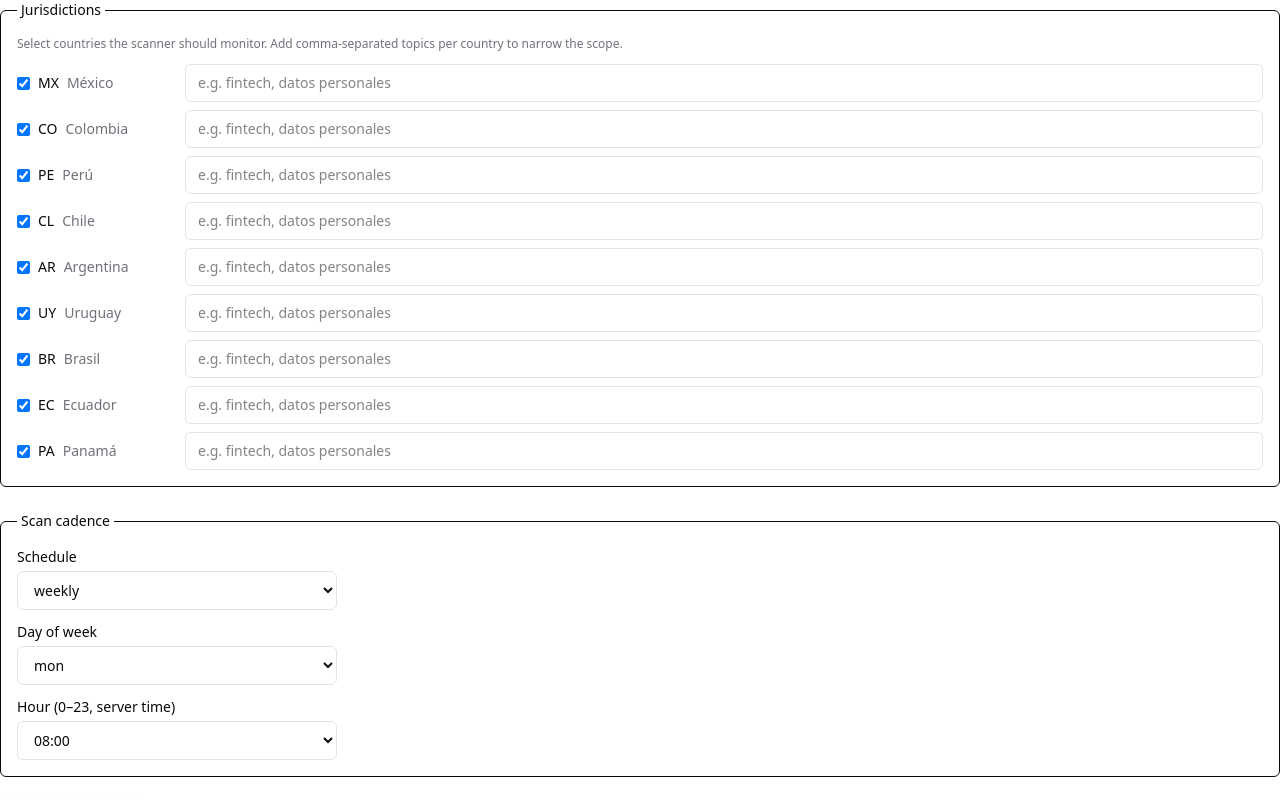
it: <PreferencesForm> › switches schedule to daily and HIDES the day picker
The width and height of the screenshot is (1280, 800).
Check: the dropdown with test id "preferences-form-day-weekly" is shown, box 17,646 -> 337,685
Select "daily" in the dropdown with test id "preferences-form-schedule" at (177, 590), box 17,571 -> 337,610
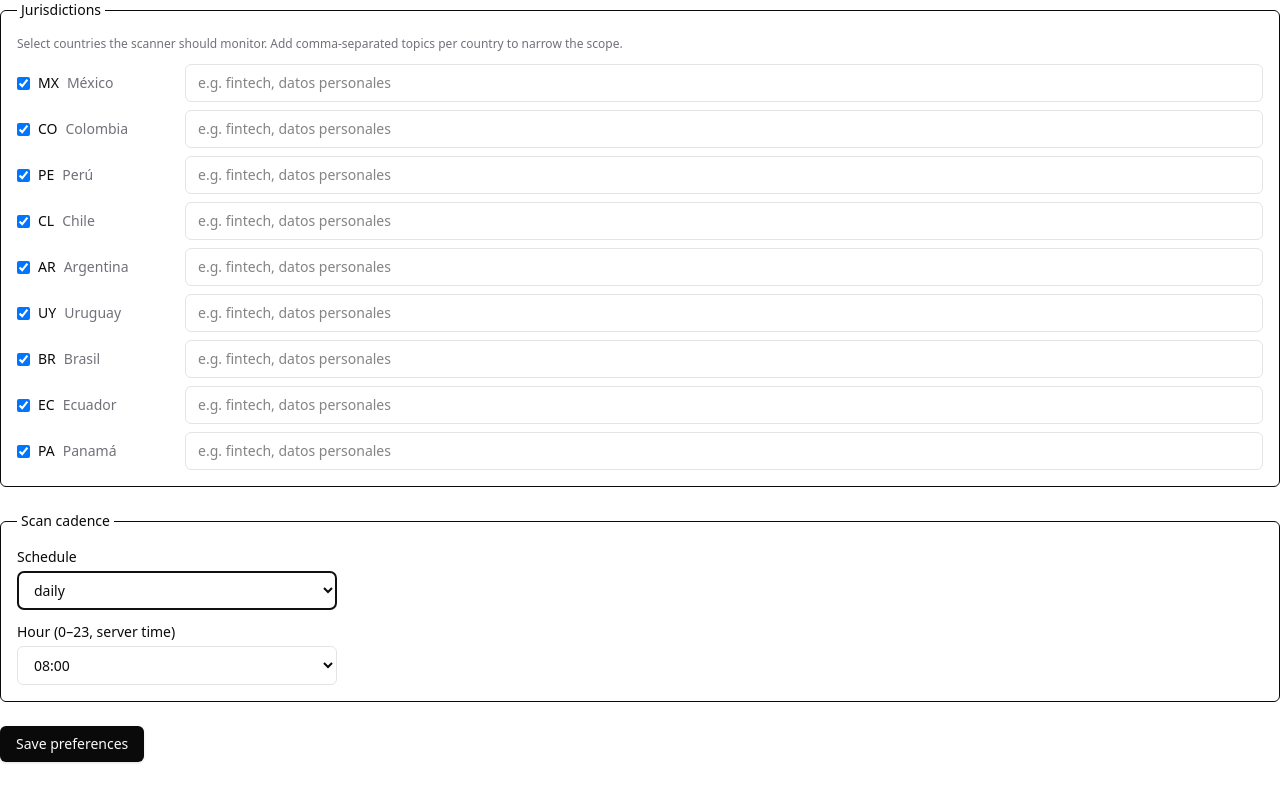
Check: the label with test id "preferences-form-day-weekly" is gone
